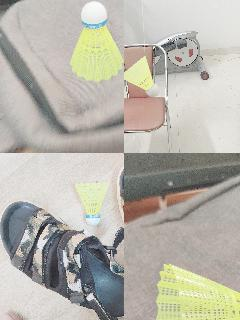shuttlecock: (157, 263, 239, 319), (69, 2, 123, 80), (72, 182, 110, 224), (124, 56, 160, 97)
